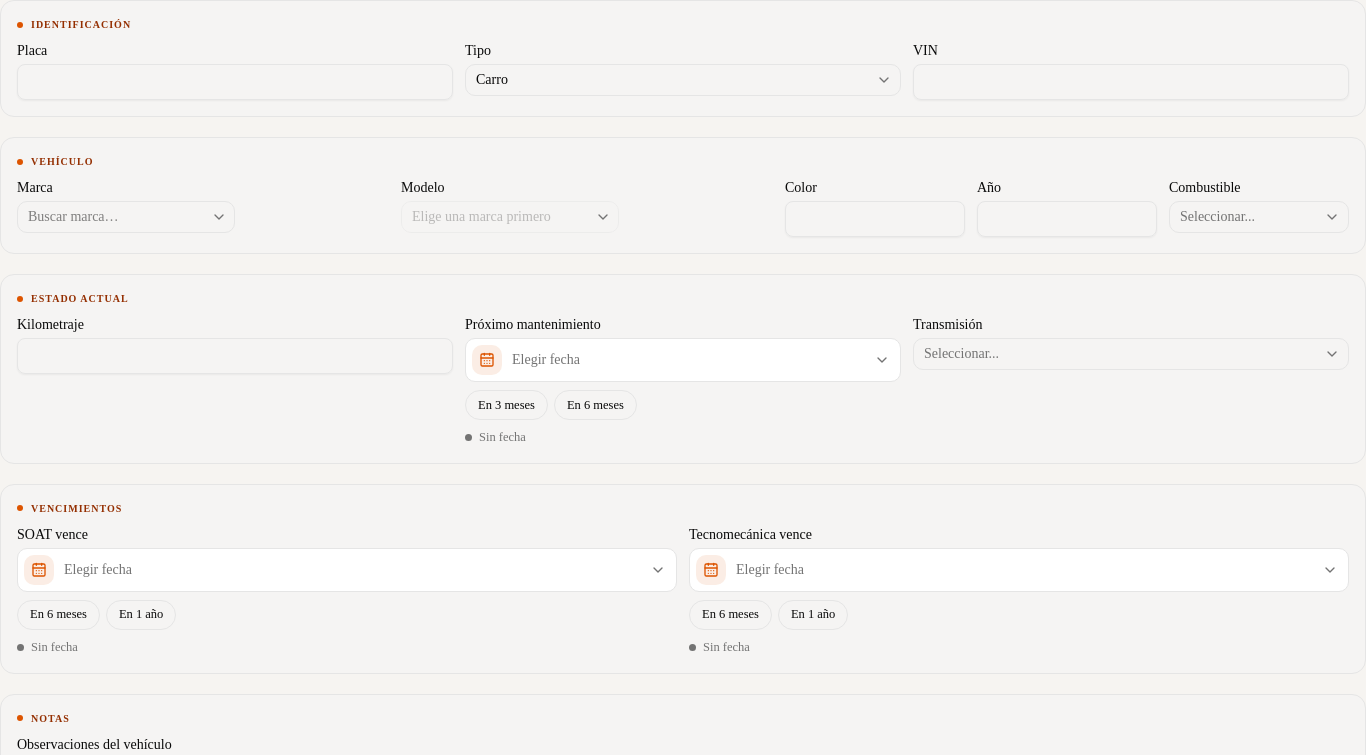
Test: NuevoVehiculoForm › disables the Modelo combobox until a marca is selected
Expected: the dropdown labelled "Modelo" is disabled, [401,201,619,233]
What coordinates should you click on to do the following:
click the dropdown labelled "Marca"
I would click on:
 (126, 217)
Its box is [17,201,235,233].
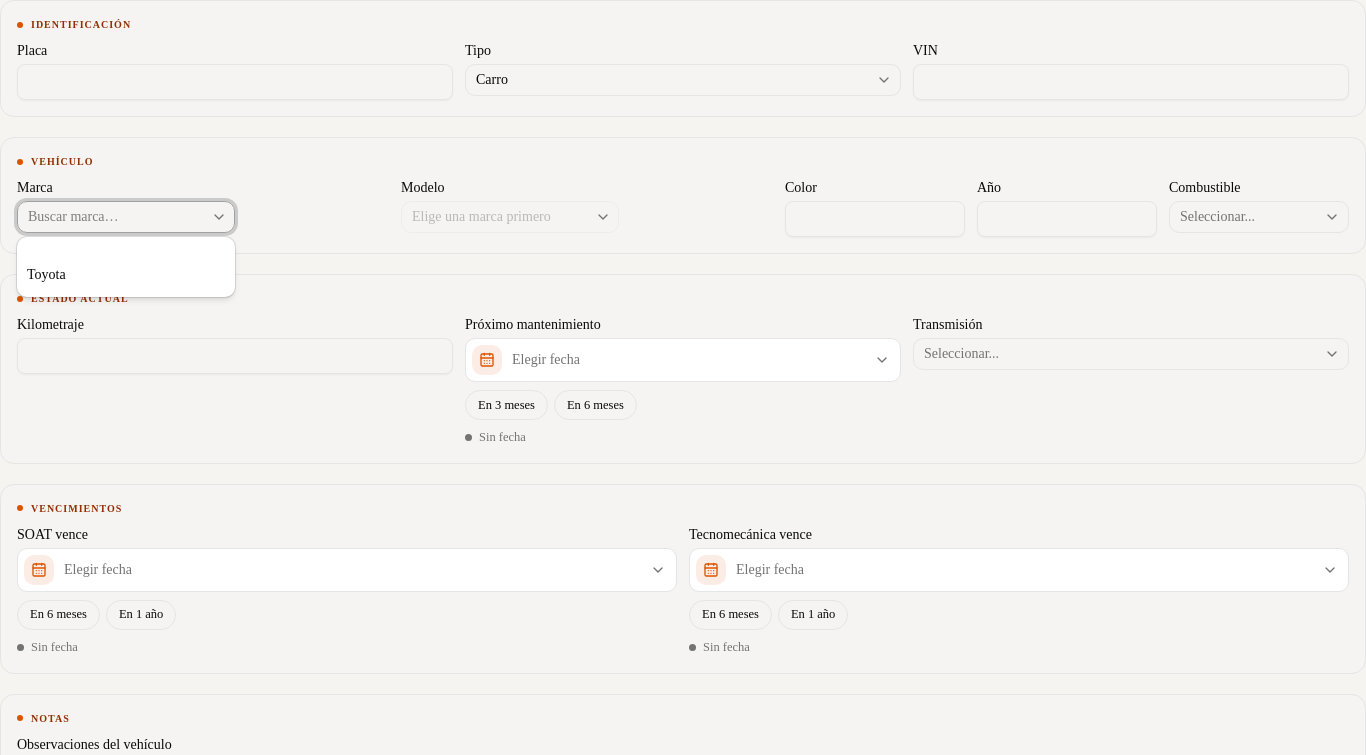
What coordinates should you click on to do the following:
click the option "Toyota"
I would click on:
 (46, 274)
Its box is [27,267,66,282].
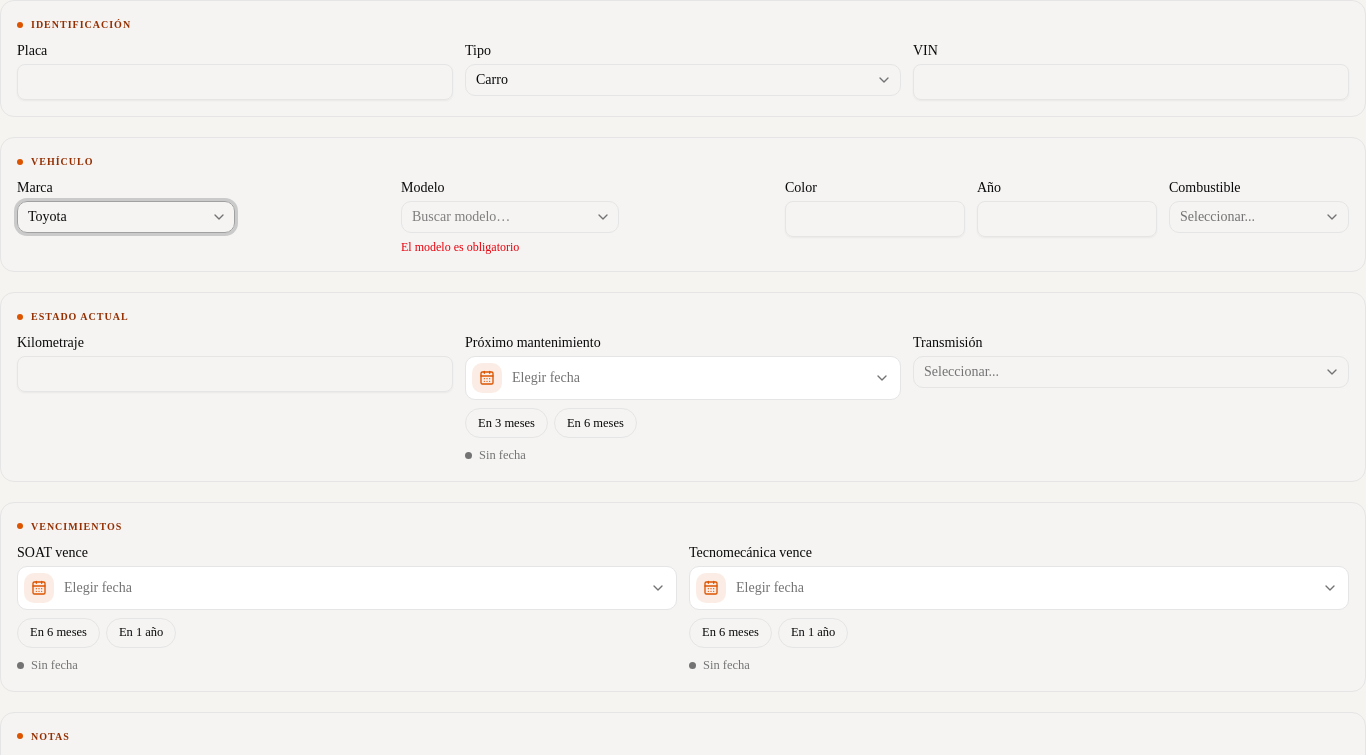
Expected: the dropdown labelled "Modelo" is enabled, [401,201,619,233]
